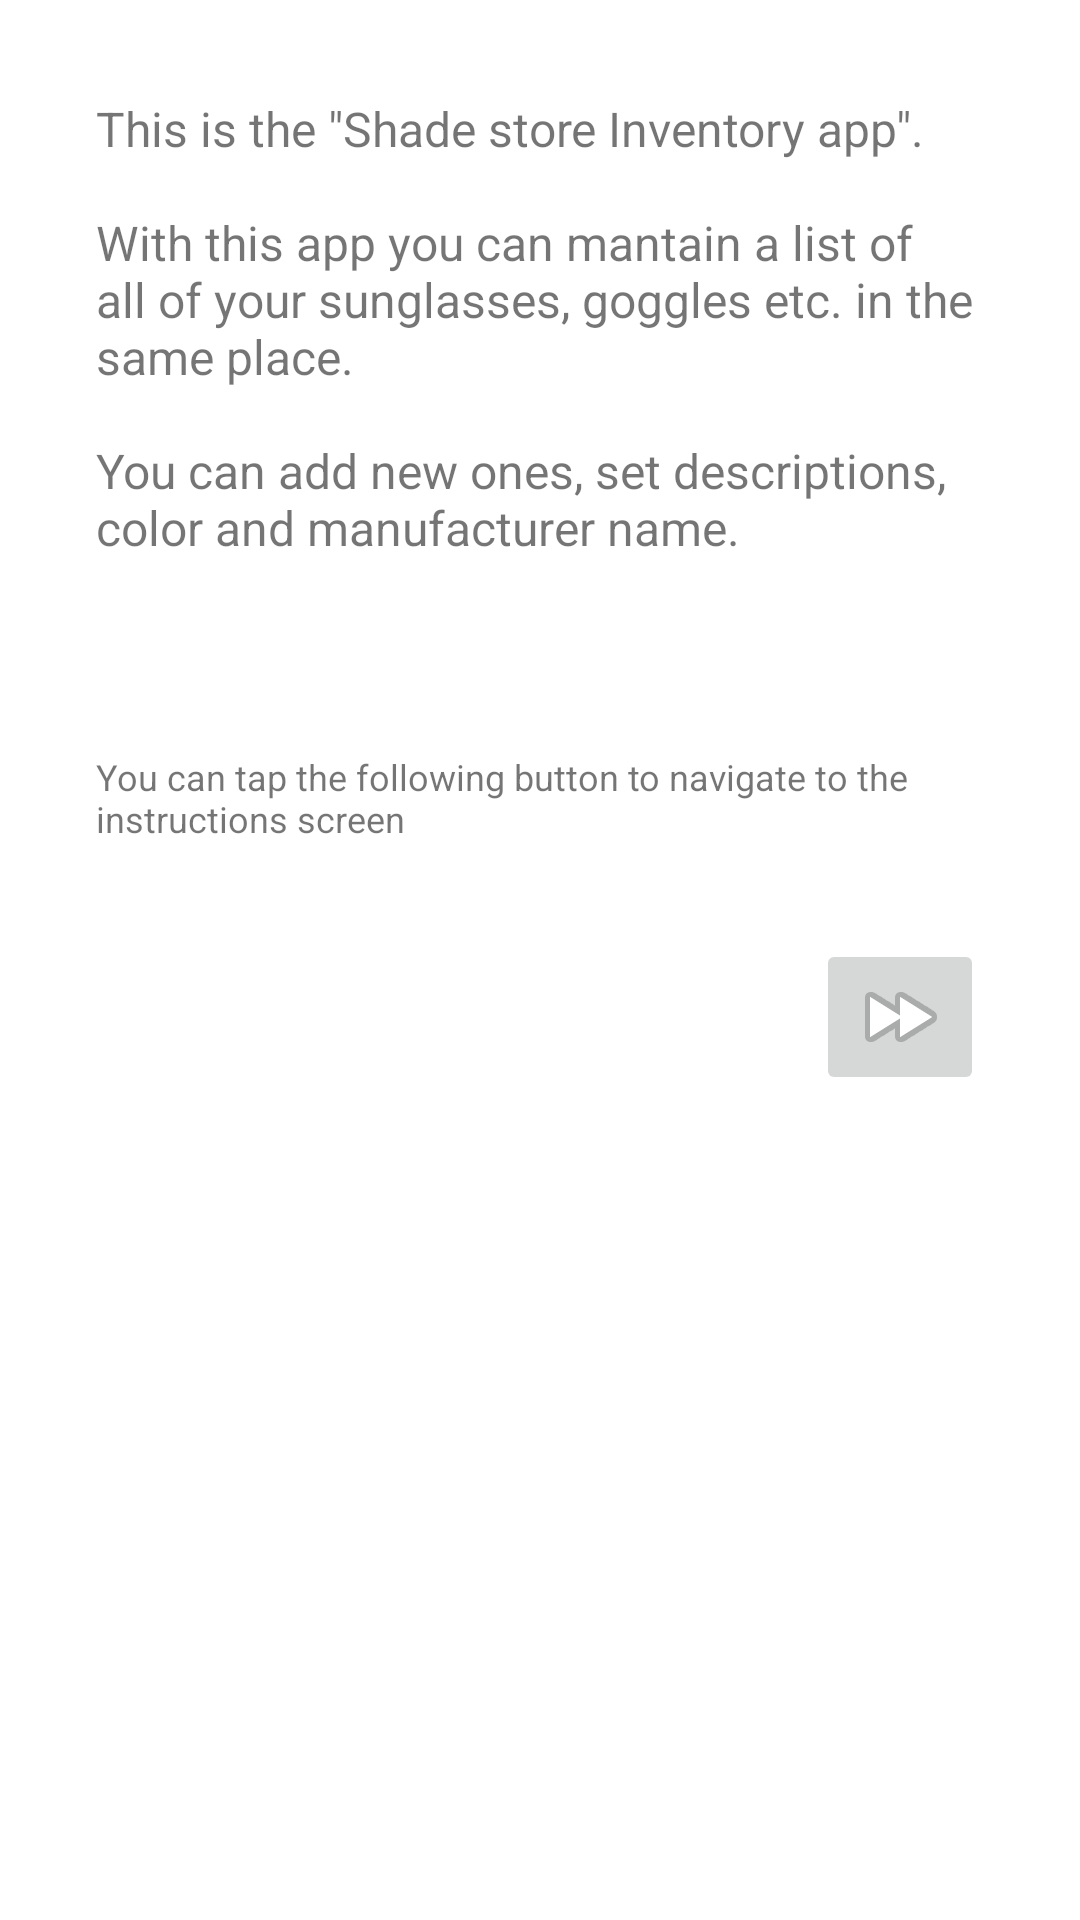

Locate icon controls on the screen. Image size 1080×1920, boxes as (x1, y1, x2, y2).
Button to navigate to instruction fragment: (828, 957, 972, 1077)
